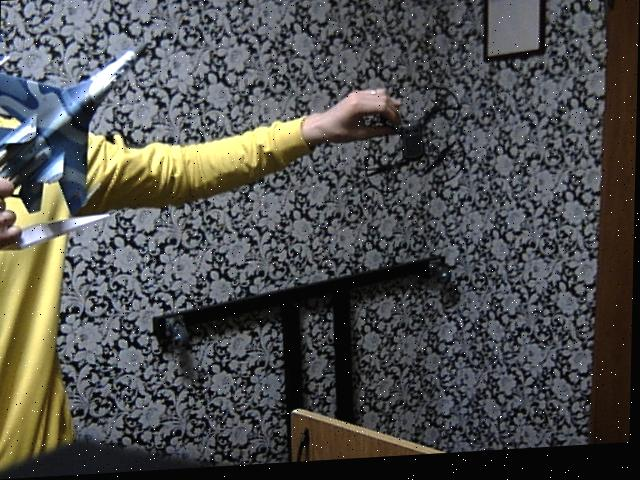drone: (362, 72, 467, 199)
